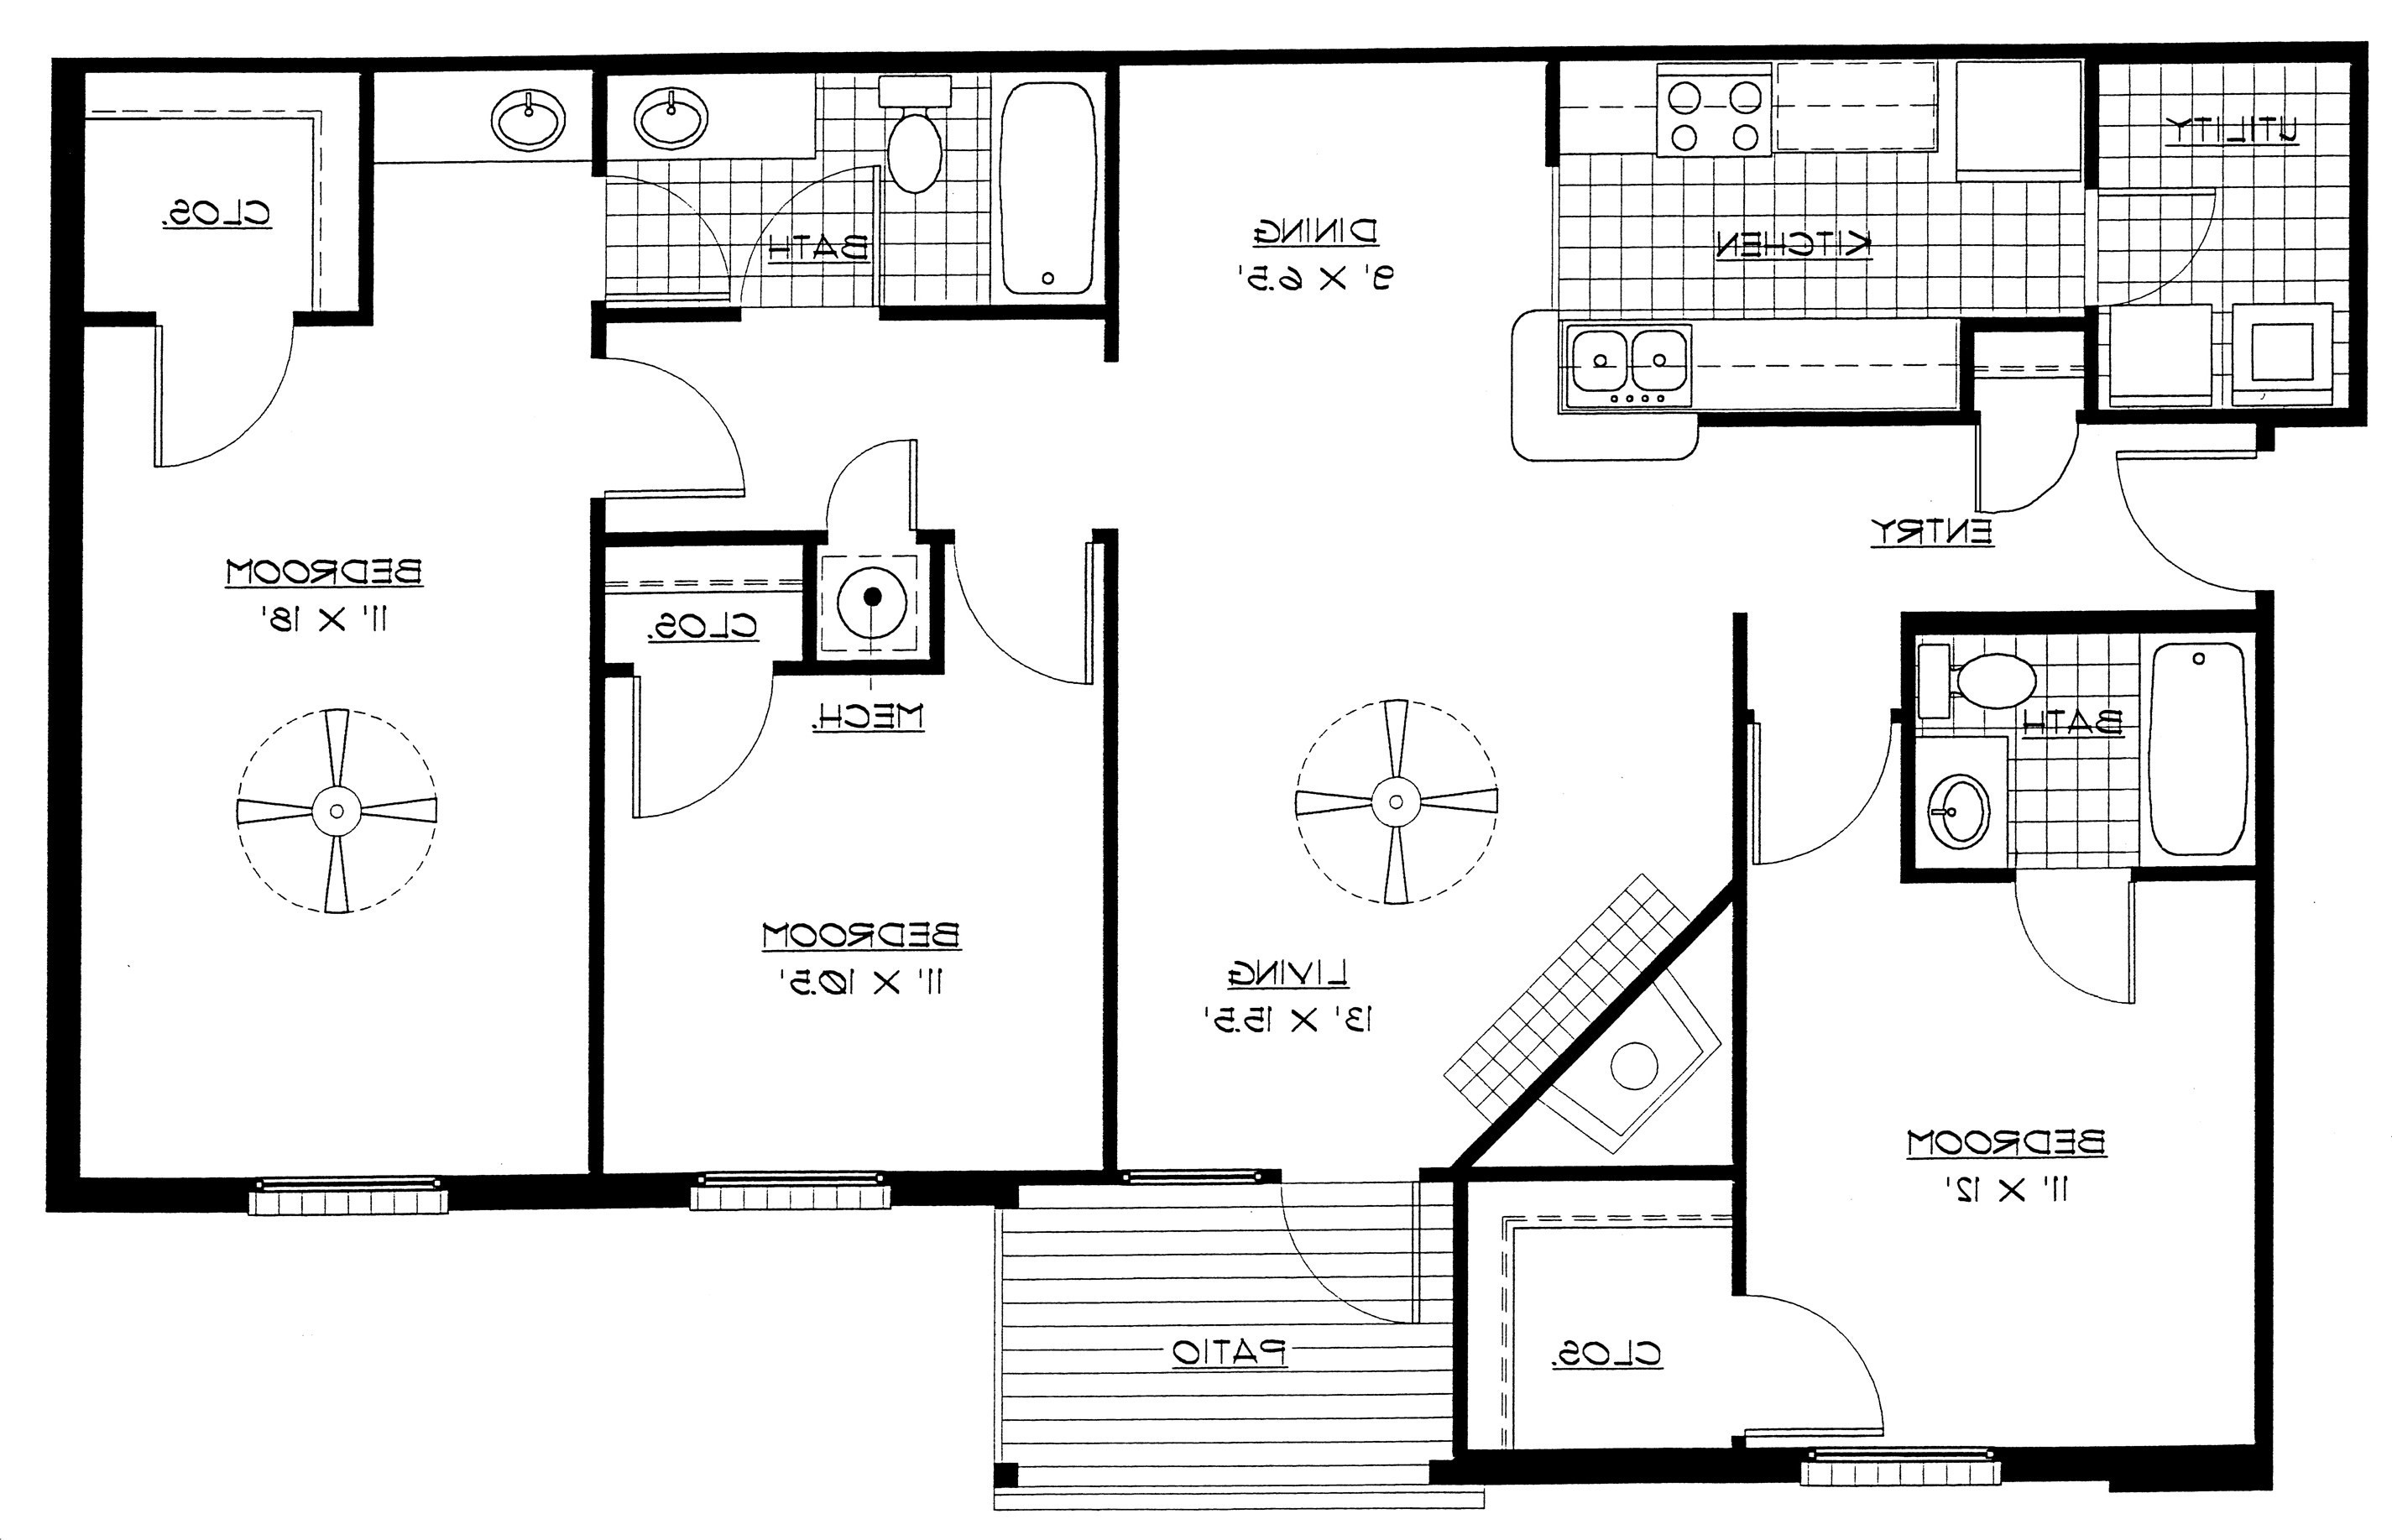wall: (58, 324, 71, 1193), (1451, 1462, 2266, 1475), (1552, 54, 2094, 66), (2352, 61, 2366, 433), (593, 513, 600, 1193), (2266, 610, 2272, 1475), (608, 68, 1112, 73), (363, 63, 603, 73), (89, 70, 364, 78), (1116, 61, 1545, 66), (1107, 541, 1111, 1179), (886, 307, 1112, 316), (2087, 413, 2361, 420), (1916, 619, 2272, 624), (1914, 624, 1921, 891), (1423, 1170, 1742, 1175), (593, 535, 818, 542), (1961, 319, 1977, 415), (1700, 419, 1984, 424), (1961, 321, 2103, 331), (908, 1174, 1112, 1181), (75, 1186, 237, 1195), (802, 544, 812, 673), (805, 664, 928, 675), (2106, 45, 2348, 51), (598, 312, 734, 321), (452, 1189, 676, 1195), (56, 314, 152, 326), (1123, 1179, 1290, 1186), (931, 539, 940, 664), (1913, 865, 2008, 876), (1112, 82, 1116, 338), (2089, 312, 2094, 412), (1461, 1188, 1463, 1451), (2089, 59, 2092, 178), (361, 92, 363, 309), (2139, 874, 2265, 876)
